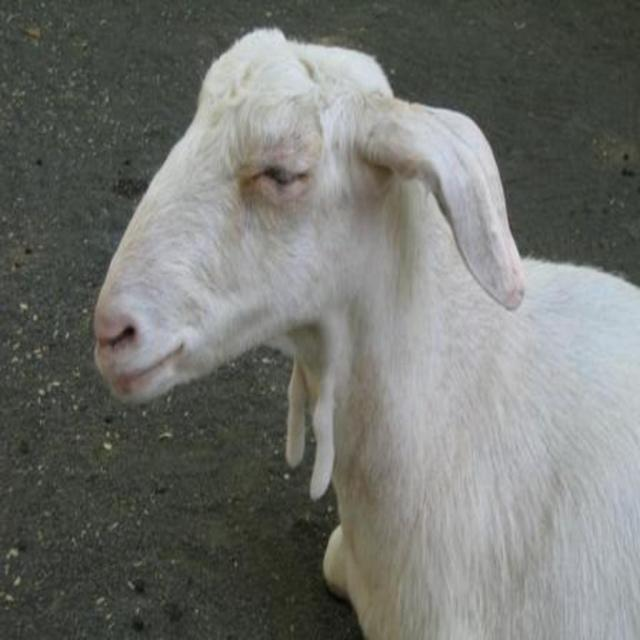Goat: (96, 27, 638, 638)
